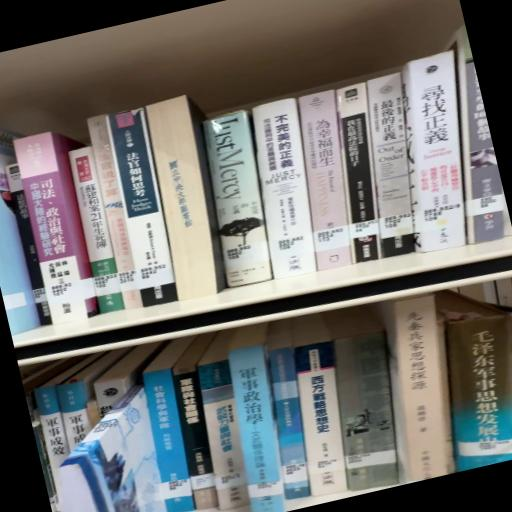backward: (141, 96, 246, 307)
book: (379, 54, 500, 261), (9, 130, 120, 333), (365, 297, 474, 486), (241, 99, 340, 286), (193, 111, 291, 295), (99, 111, 187, 315), (281, 91, 375, 274), (1, 101, 68, 335)
